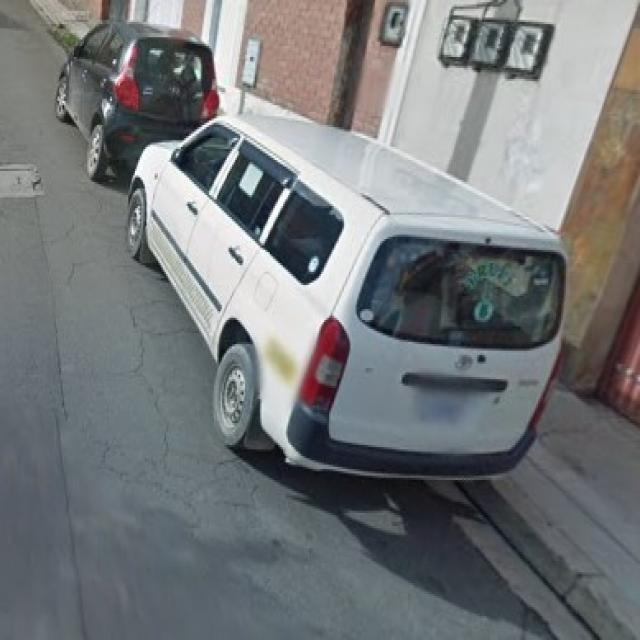cars: (192, 86, 564, 497), (56, 12, 209, 187)
